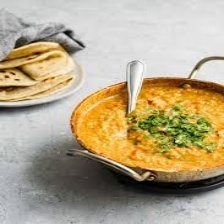roti: (0, 39, 78, 107)
